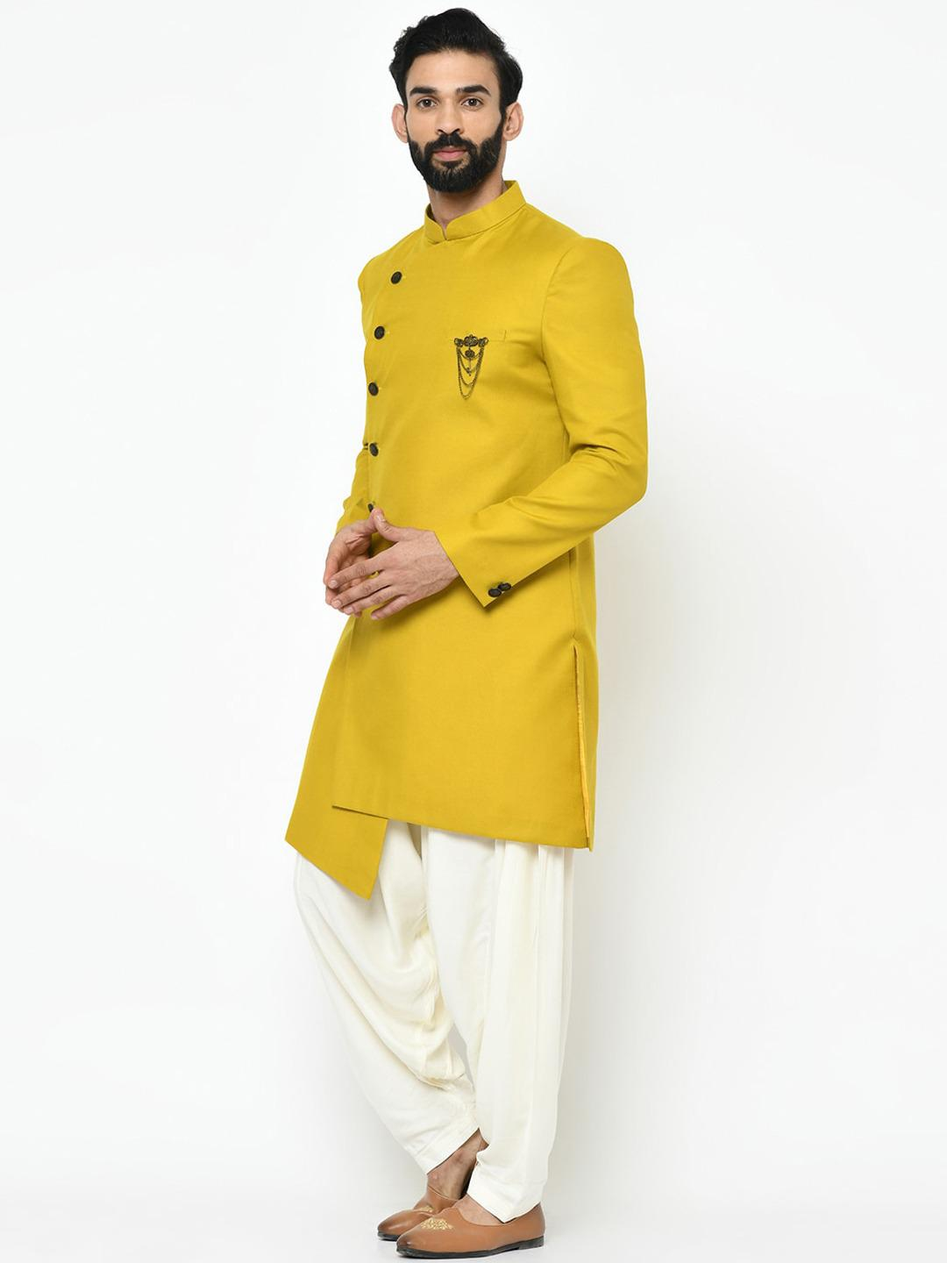Plain Sherwani: (284, 188, 651, 906)
